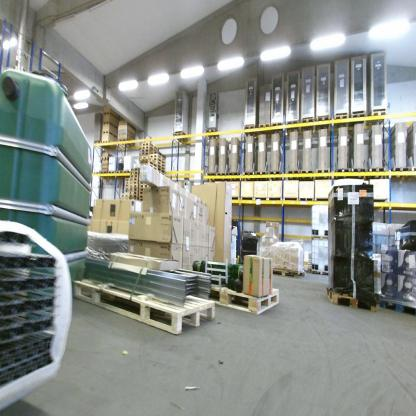pallet: (71, 270, 216, 339), (206, 274, 284, 321), (325, 282, 378, 310), (378, 295, 416, 318), (366, 108, 388, 126), (387, 166, 411, 182), (366, 163, 385, 181), (332, 113, 350, 132), (314, 114, 332, 132), (272, 267, 305, 276), (349, 112, 366, 128), (271, 119, 286, 137), (301, 115, 315, 133), (286, 117, 300, 135), (258, 121, 271, 140), (173, 131, 189, 145), (244, 122, 257, 139), (351, 166, 368, 178), (205, 128, 221, 140), (335, 167, 351, 178), (116, 140, 135, 149), (372, 292, 384, 306), (300, 168, 314, 180), (311, 268, 329, 277), (207, 171, 220, 183), (216, 171, 230, 182), (286, 169, 300, 180), (316, 168, 330, 179), (255, 171, 270, 181), (138, 156, 156, 164), (150, 153, 166, 162), (142, 143, 158, 152), (229, 171, 243, 181), (243, 171, 256, 181), (142, 146, 158, 154), (270, 171, 284, 180), (311, 234, 328, 241), (100, 169, 108, 181), (154, 158, 166, 165), (156, 164, 165, 173), (157, 167, 166, 176), (147, 164, 157, 172), (108, 170, 116, 179), (94, 140, 102, 149), (156, 160, 165, 168), (142, 152, 153, 158), (142, 149, 155, 154), (115, 170, 123, 178), (145, 161, 157, 166), (100, 156, 109, 161), (139, 183, 148, 188), (411, 167, 416, 176), (123, 170, 130, 176), (129, 193, 137, 198), (130, 177, 139, 181), (130, 181, 139, 185), (130, 171, 139, 174), (130, 174, 139, 177), (139, 180, 148, 183), (130, 168, 138, 171), (130, 185, 138, 188), (129, 190, 137, 193), (129, 188, 138, 190), (124, 181, 130, 184), (139, 191, 143, 195), (139, 198, 143, 202), (139, 188, 143, 191), (126, 178, 130, 181), (125, 184, 129, 187), (125, 187, 129, 190), (139, 196, 143, 198)
